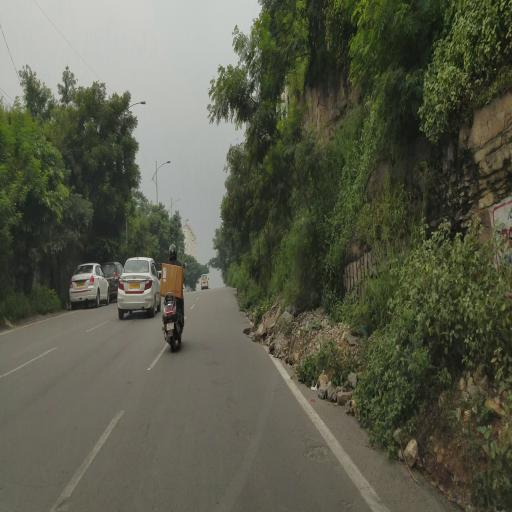street_light_0: (152, 153, 184, 177), (121, 90, 147, 118)
